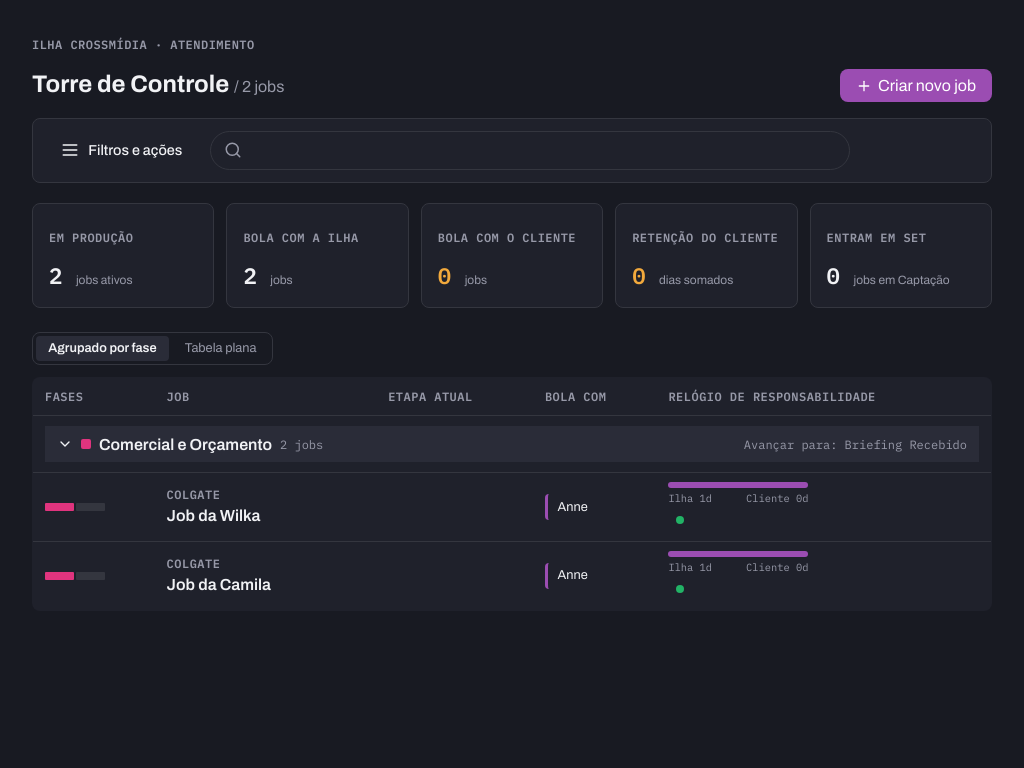
Test: Board › filters the table to one Atendimento responsável when their row is clicked
Expected: the text "Job da Wilka" is shown, [167,504,260,528]
Expected: the text "Job da Camila" is shown, [167,573,271,597]
Click the button "Filtros e ações" at (121, 150), box [49,132,194,168]
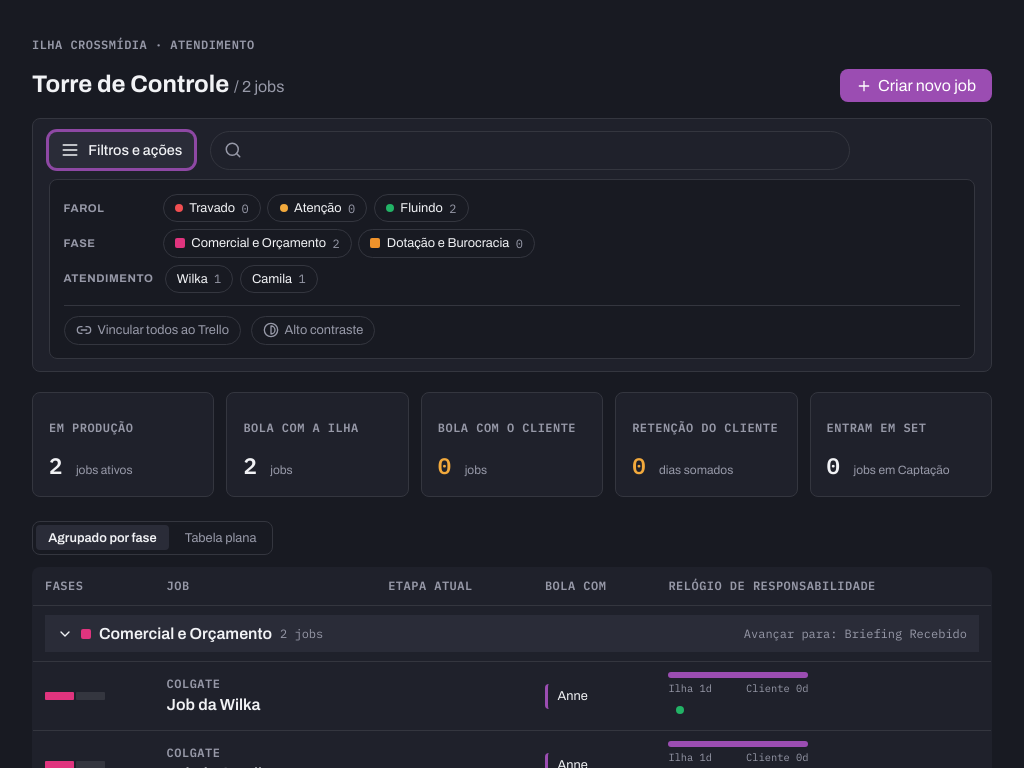
Click the button "Camila 1" at (279, 279), box [240,265,318,293]
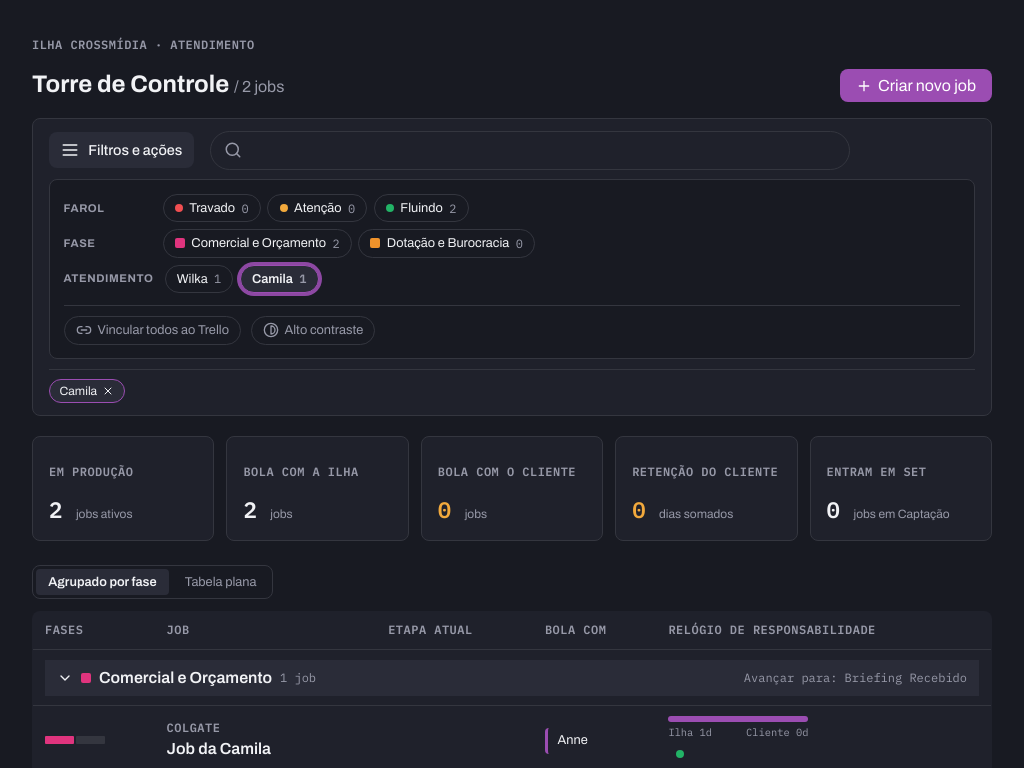
Expected: the text "Job da Camila" is shown, [167,737,271,761]
Now the link "Job da Wilka" is gone
